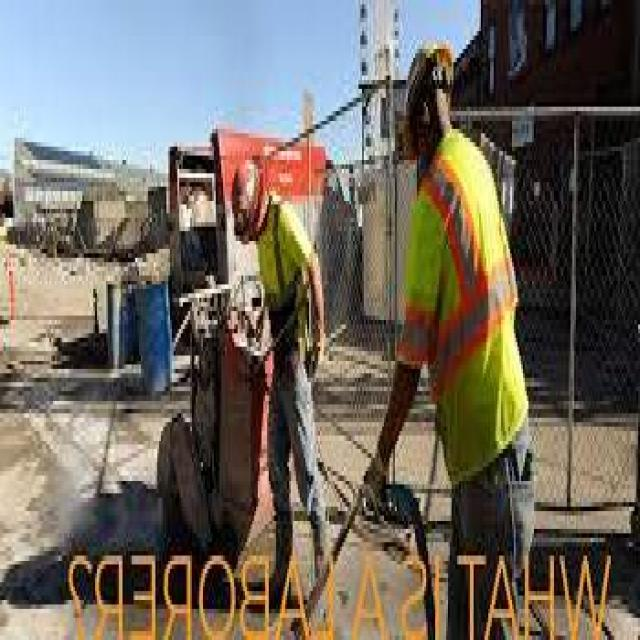Reflective-Jacket: (391, 129, 534, 489), (250, 142, 338, 369)
Safety-Helmet: (384, 0, 486, 107), (227, 146, 272, 245)
